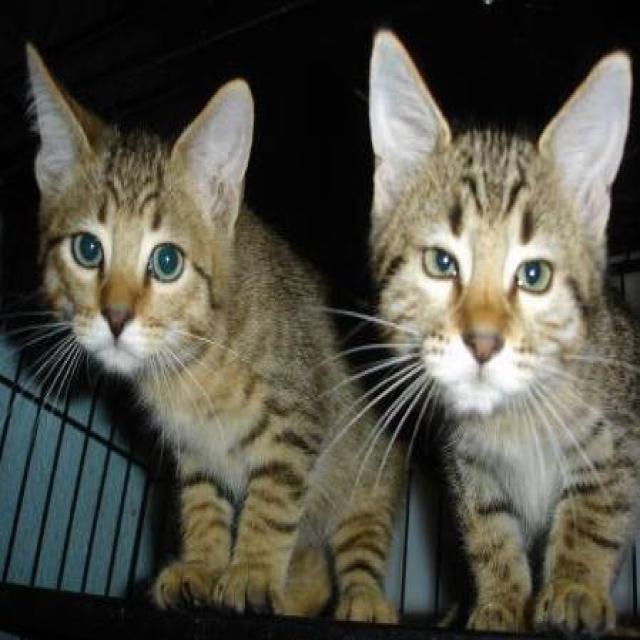cat: (0, 38, 408, 625), (304, 25, 638, 636)
